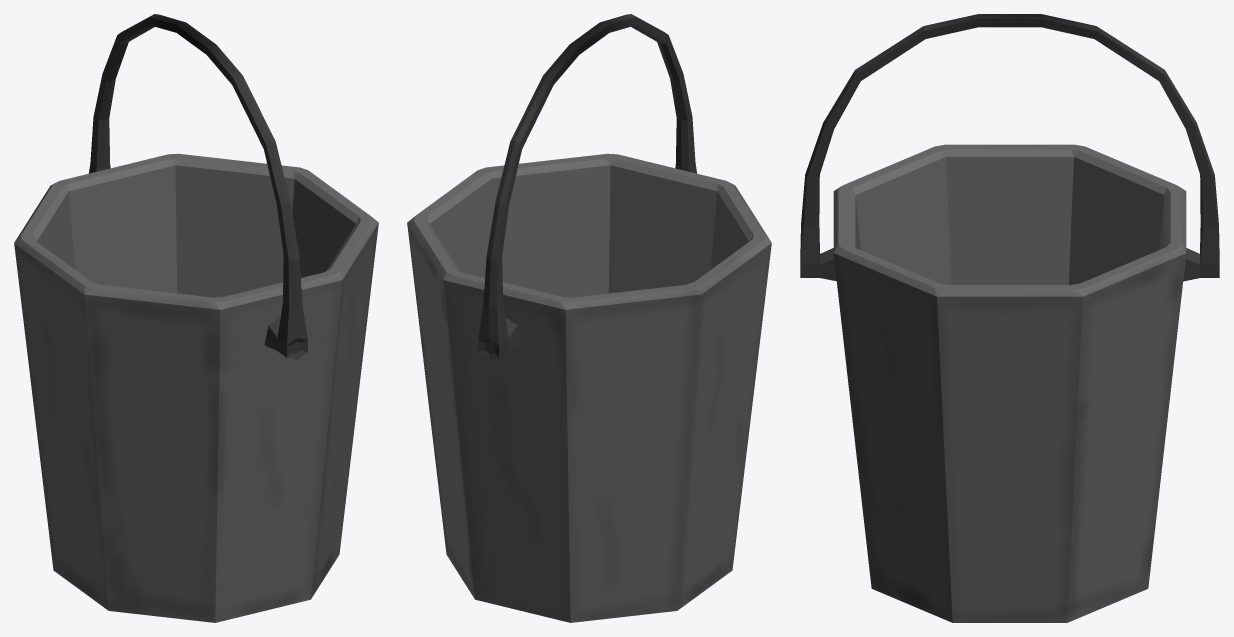
File: Bucket1.fbx
3 renders of one model, left to right at view 1: azimuth 30°, elevation 25°; view 2: azimuth 150°, elevation 25°; view 3: azimuth 270°, elevation 25°, orthographic. The views are drawn at different scales.
Parts seen in each view (by area): view 1: Cylinder; view 2: Cylinder; view 3: Cylinder.
Part boxes in pixels (x1,y1,x2,y2): Cylinder: (14,14,378,622); Cylinder: (407,14,771,622); Cylinder: (800,14,1219,622).
Size of the model in its own units: 11.68 by 13.88 by 20.08.
